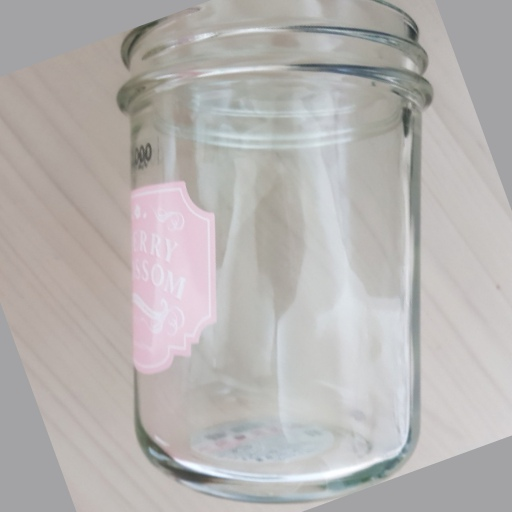Glass_5: (114, 2, 430, 500)
